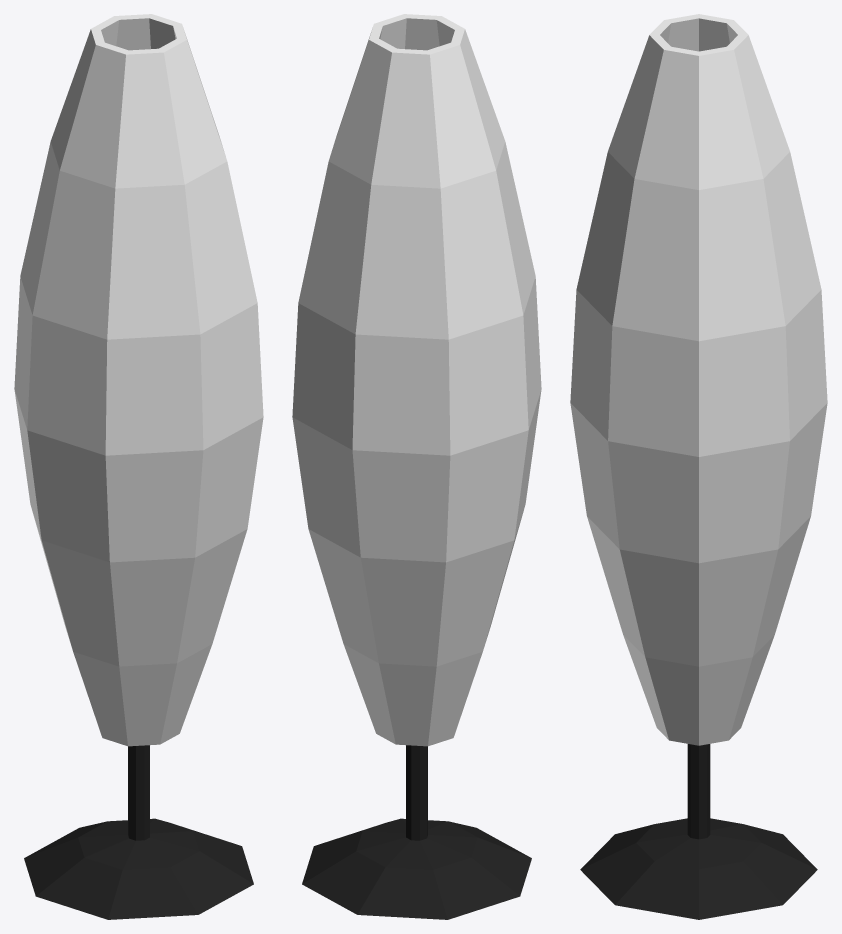
The model's file is IkeaLight_Off.glb.
The picture shows the model from 3 angles, left to right: view 1: azimuth 30°, elevation 25°; view 2: azimuth 150°, elevation 25°; view 3: azimuth 270°, elevation 25°; orthographic projection.
Visible parts, largest first — view 1: ikeaFloorLamp; view 2: ikeaFloorLamp; view 3: ikeaFloorLamp.
Boxes of the visible parts, x1=… form: ikeaFloorLamp: x1=14, y1=14, x2=263, y2=919; ikeaFloorLamp: x1=292, y1=14, x2=541, y2=919; ikeaFloorLamp: x1=570, y1=14, x2=827, y2=919.
Size of the model in its own units: 0.3859 by 1.38 by 0.3859.
1 material, 1 textured.
